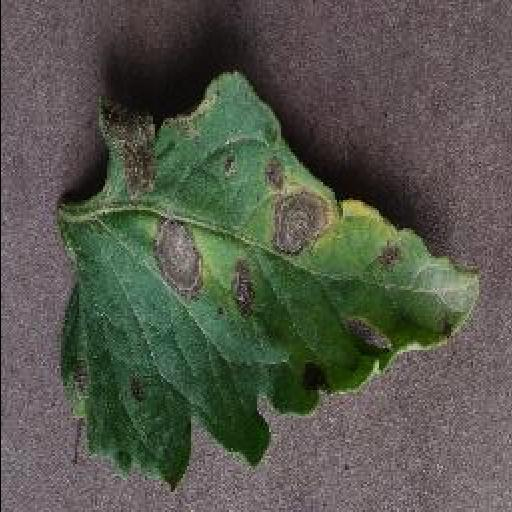disease_tomato: (51, 63, 481, 491)
